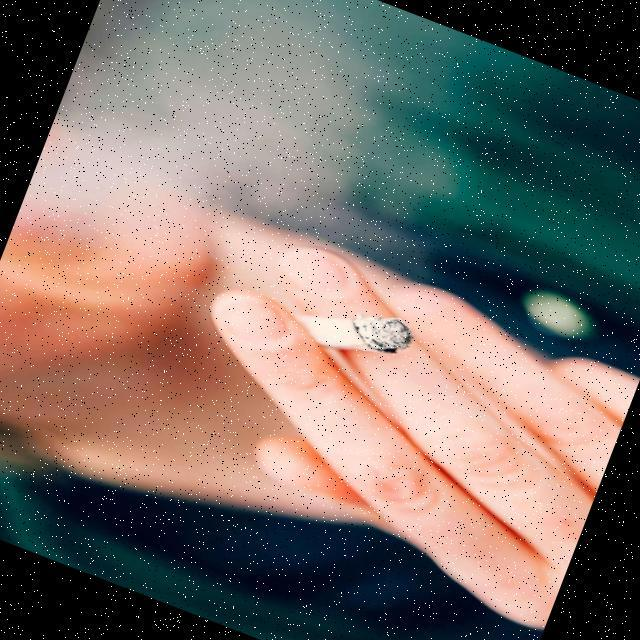cigarette: (276, 276, 420, 392)
